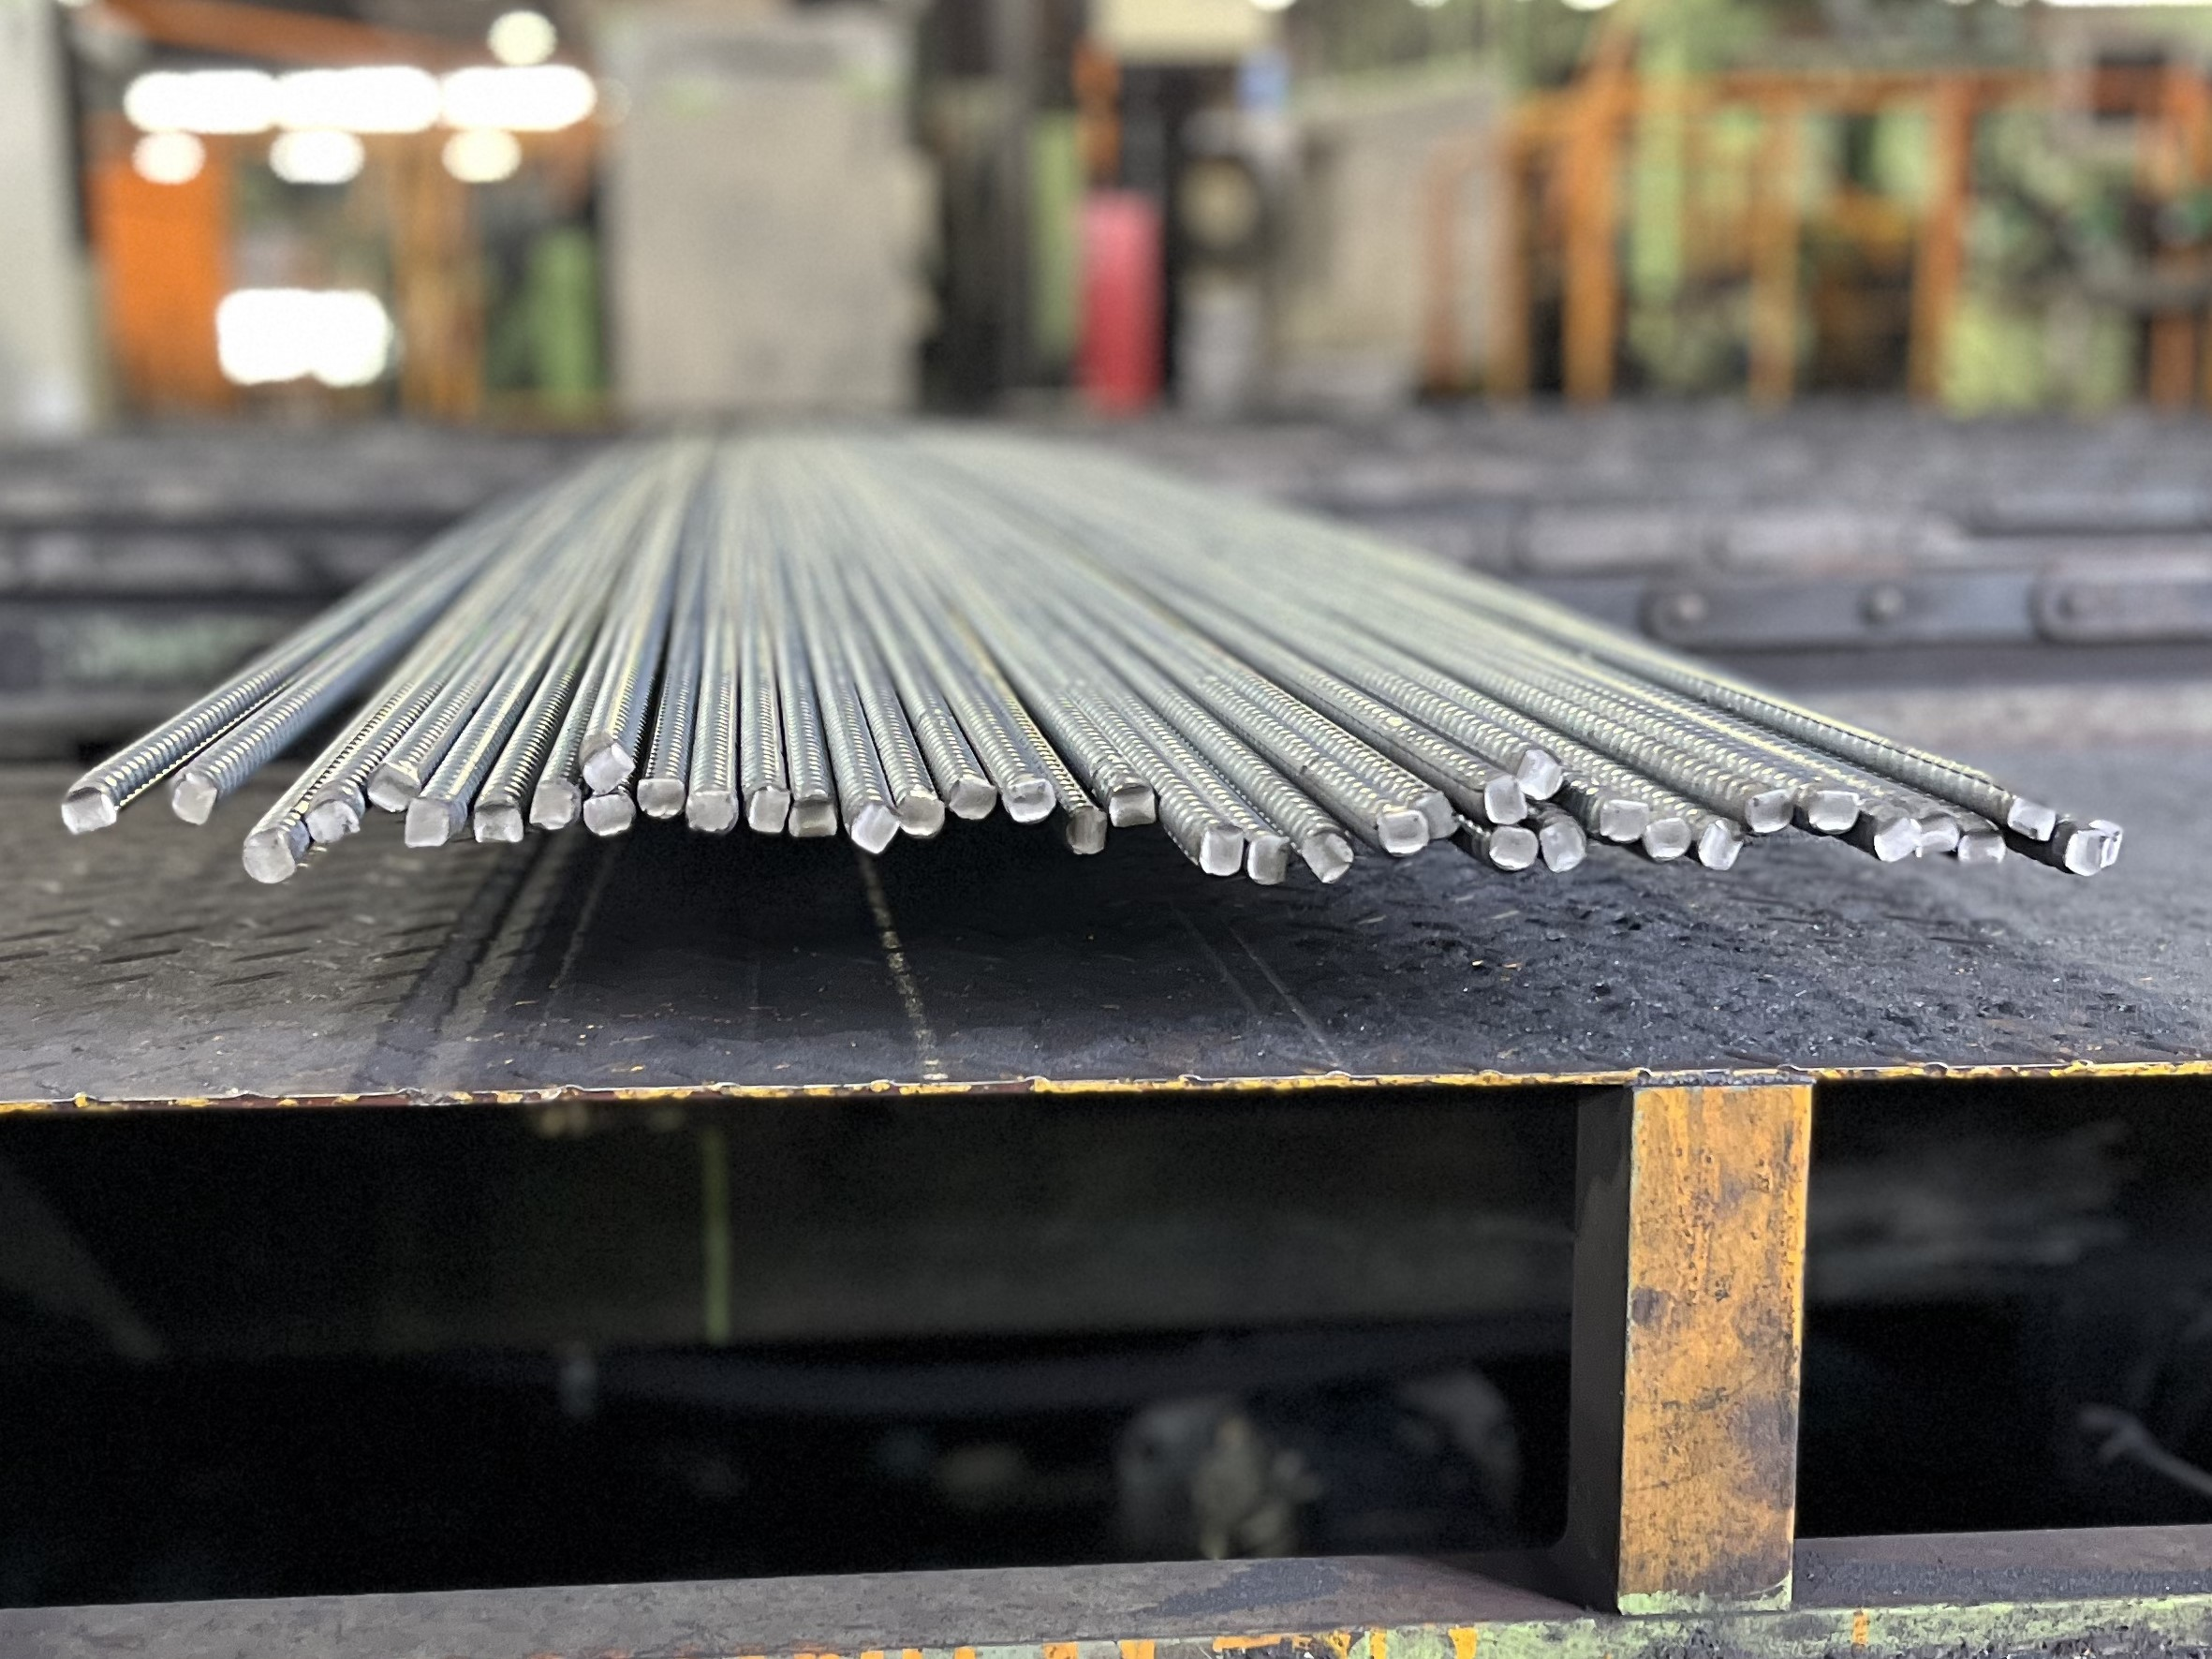rod: (240, 828, 300, 885), (1299, 826, 1357, 884), (848, 800, 904, 856), (59, 784, 118, 836), (1514, 744, 1566, 803), (364, 760, 420, 814), (528, 777, 582, 833), (578, 742, 637, 793), (169, 765, 218, 826), (1374, 807, 1432, 857), (303, 796, 362, 845), (1538, 819, 1588, 875), (402, 795, 453, 849), (1486, 824, 1540, 875), (1198, 821, 1247, 877), (1597, 796, 1651, 845), (2005, 795, 2059, 843), (1003, 777, 1059, 824), (1698, 816, 1745, 871), (1245, 833, 1294, 885), (1482, 772, 1529, 826), (470, 800, 526, 845), (1806, 788, 1862, 833), (1108, 781, 1158, 829), (948, 775, 1000, 823), (1642, 816, 1695, 863), (1871, 816, 1923, 863), (787, 795, 841, 840), (582, 795, 637, 838), (899, 789, 948, 838), (2060, 828, 2107, 878), (1064, 805, 1109, 857), (1743, 788, 1796, 833), (685, 791, 738, 835), (1414, 789, 1460, 840), (745, 786, 791, 835), (636, 775, 686, 819), (1911, 812, 1959, 856), (1954, 828, 2006, 866)
